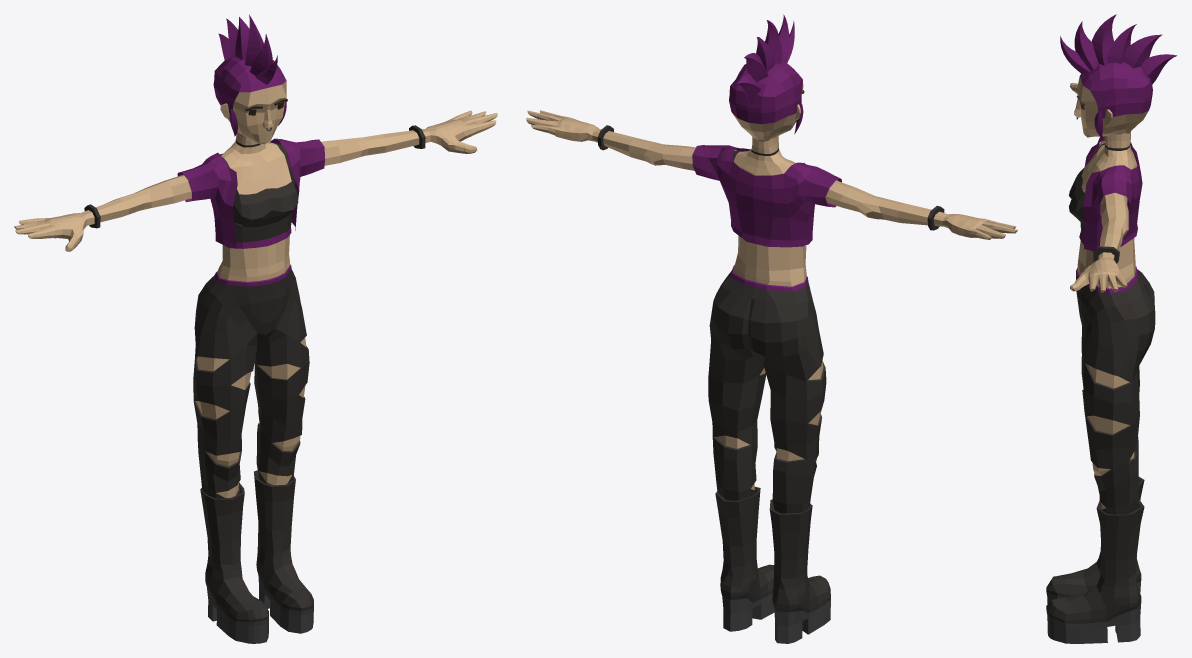
File: Punk.fbx
3 views of the same model, side by side, from view 1: azimuth 30°, elevation 25°; view 2: azimuth 150°, elevation 25°; view 3: azimuth 270°, elevation 25° (orthographic).
Parts seen in each view (by area): view 1: Punk_Legs; view 2: Punk_Legs; view 3: Punk_Legs.
Boxes of the visible parts, <box> form: Punk_Legs: <box>14,14,497,643</box>; Punk_Legs: <box>526,14,1017,643</box>; Punk_Legs: <box>1046,14,1176,643</box>.
Bounding box in the file's own units: 165 × 196 × 38.3.
